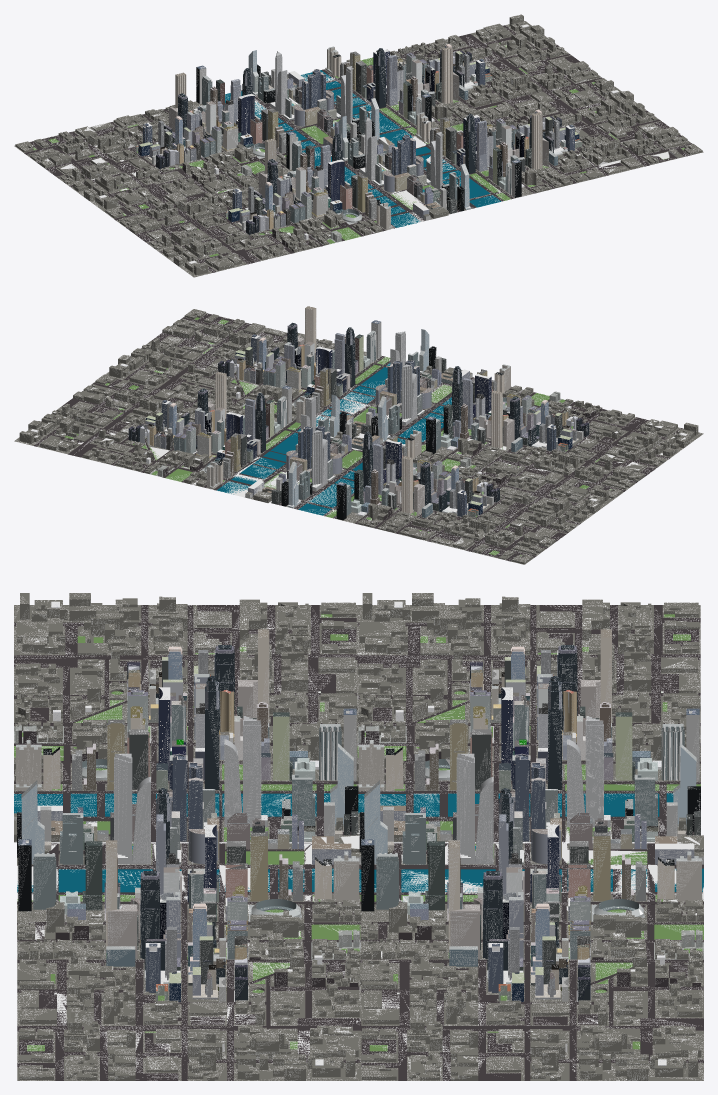
The model's file is city-optimized.glb.
The picture shows the model from 3 angles, top to bottom: view 1: azimuth 30°, elevation 25°; view 2: azimuth 150°, elevation 25°; view 3: azimuth 270°, elevation 25°; orthographic projection. The views are drawn at different scales.
Parts seen in each view (by area): view 1: SketchUp.003; view 2: SketchUp.003; view 3: SketchUp.003.
Boxes of the visible parts, box(x1,y1,x2,y2) form: SketchUp.003: box(14, 14, 703, 277); SketchUp.003: box(14, 306, 703, 564); SketchUp.003: box(14, 593, 703, 1080).
Size of the model in its own units: 417 by 44.99 by 256.
171 materials, 171 textured.
